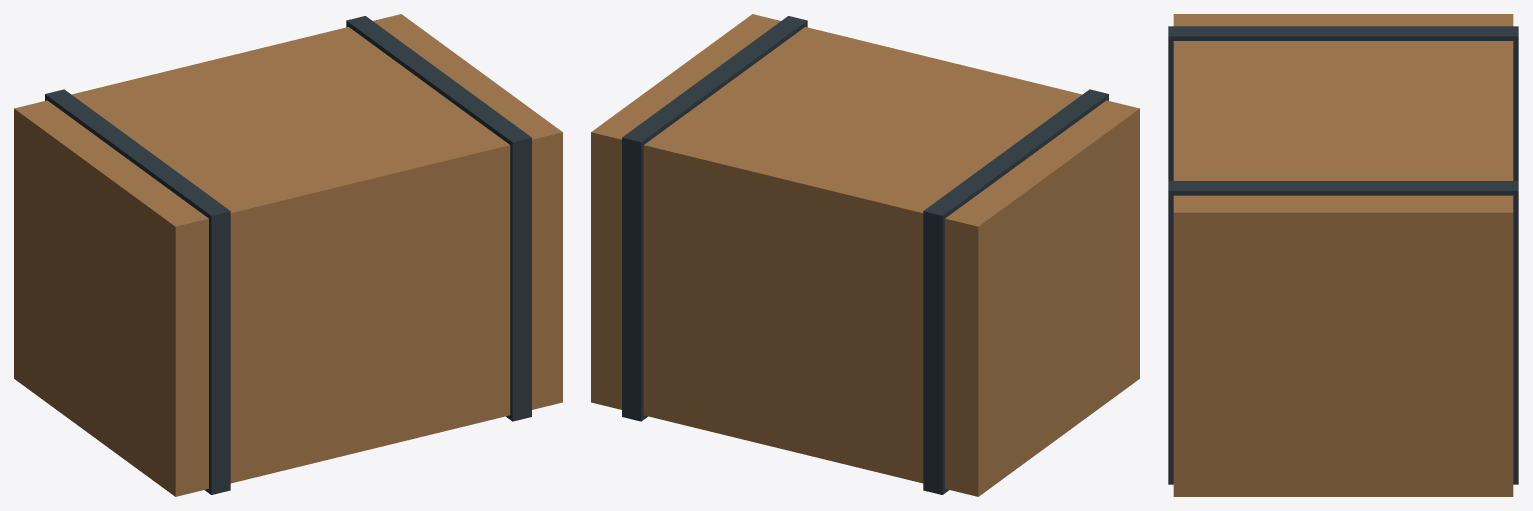
Rendered from cargo.lod2.glb.
3 renders of one model, left to right at view 1: azimuth 30°, elevation 25°; view 2: azimuth 150°, elevation 25°; view 3: azimuth 270°, elevation 25°, orthographic. The views are drawn at different scales.
Parts seen in each view (by area): view 1: structure; view 2: structure; view 3: structure.
Boxes of the visible parts, left/top/right/bottom form: structure: left=14, top=14, right=562, bottom=496; structure: left=591, top=14, right=1139, bottom=496; structure: left=1168, top=14, right=1518, bottom=496.
Size of the model in its own units: 1.8 by 1.24 by 1.34.
